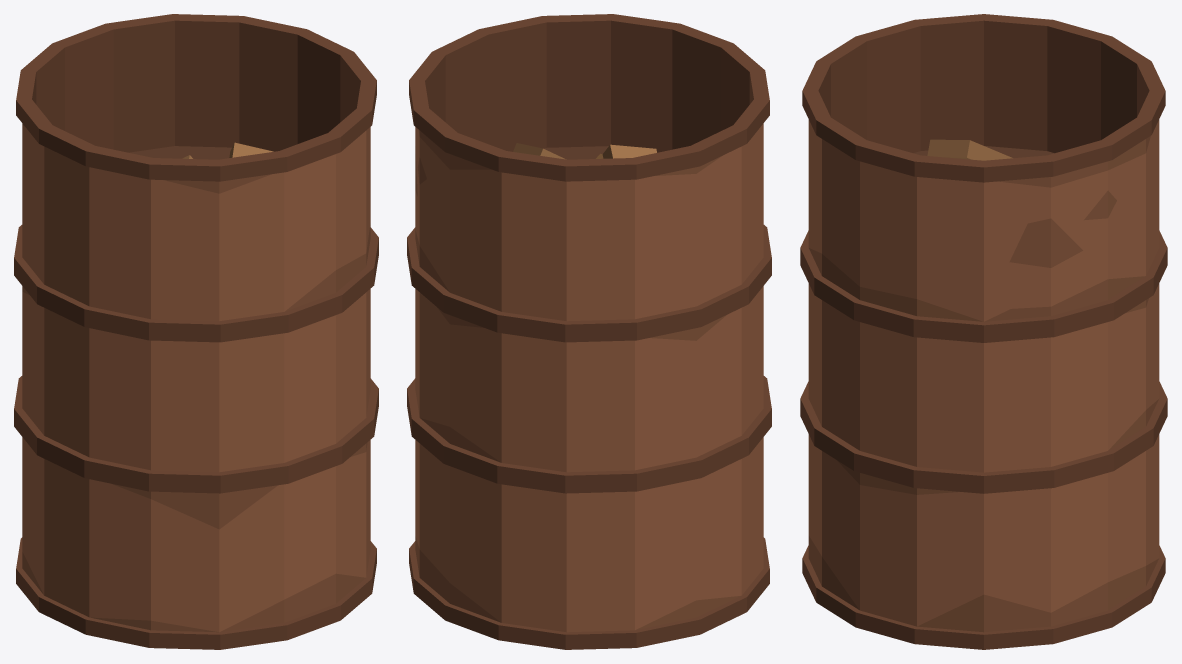
Rendered from Barrel_06.fbx.
3 renders of one model, left to right at view 1: azimuth 30°, elevation 25°; view 2: azimuth 150°, elevation 25°; view 3: azimuth 270°, elevation 25°, orthographic.
Visible parts, largest first — view 1: Barrel_06; view 2: Barrel_06; view 3: Barrel_06.
Part boxes in pixels (<box>): Barrel_06: <box>14,14,378,649</box>; Barrel_06: <box>407,14,771,649</box>; Barrel_06: <box>800,14,1167,649</box>.
Bounding box in the file's own units: 60.7 × 88 × 60.7.
